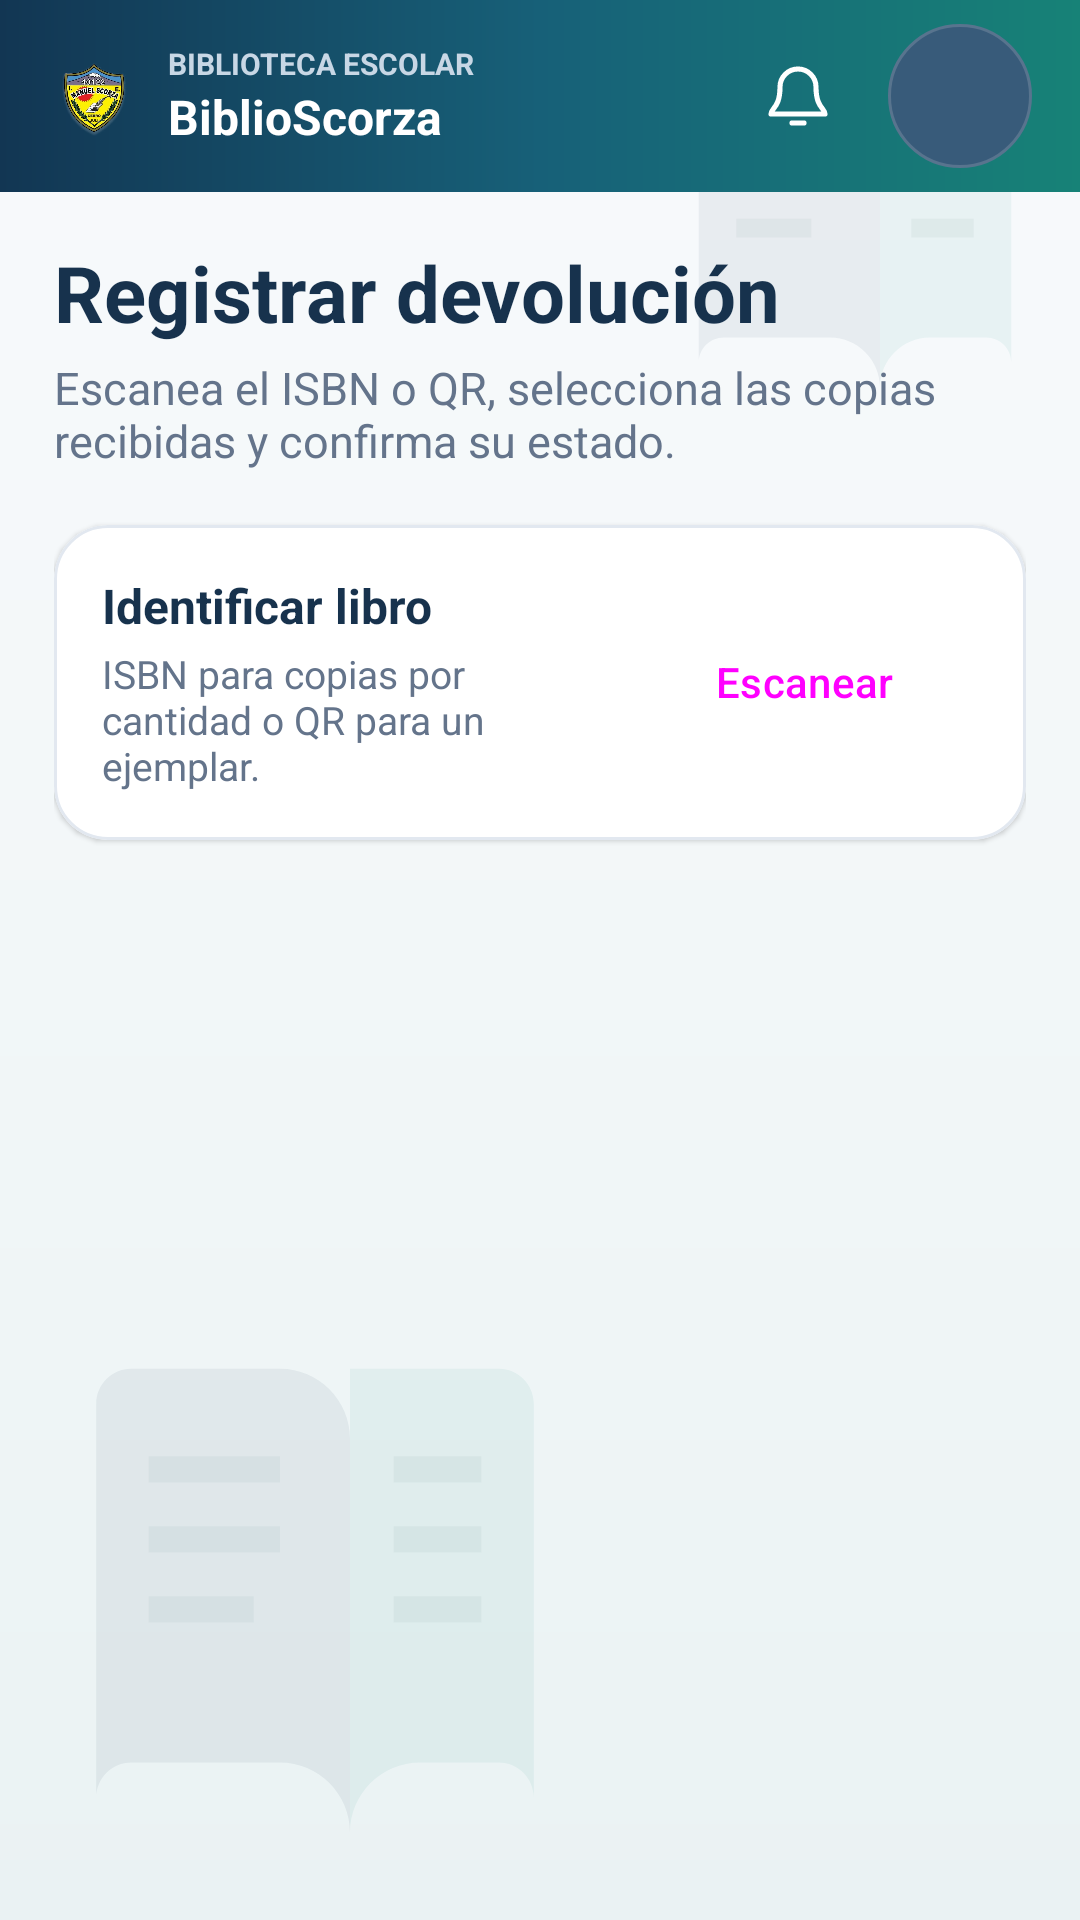

Where icons sit on this 1080 × 1920 app screen, as (x1, y1, x2, y2):
notifications: (768, 66, 828, 126)
